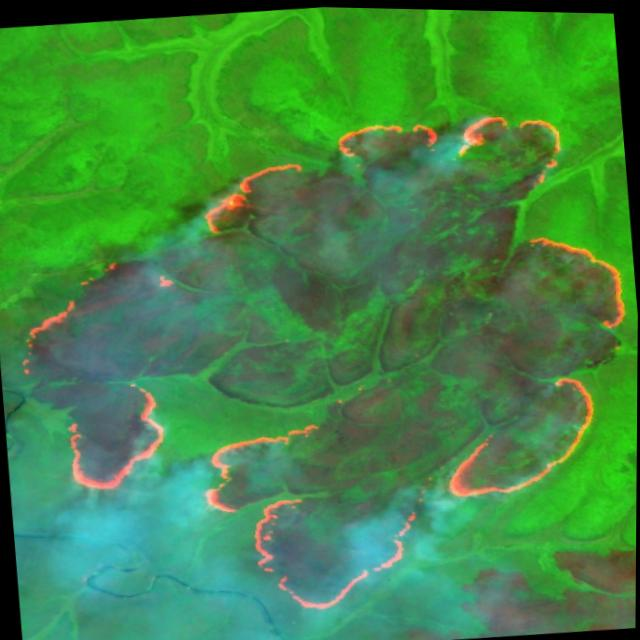fire: (0, 86, 639, 640)
